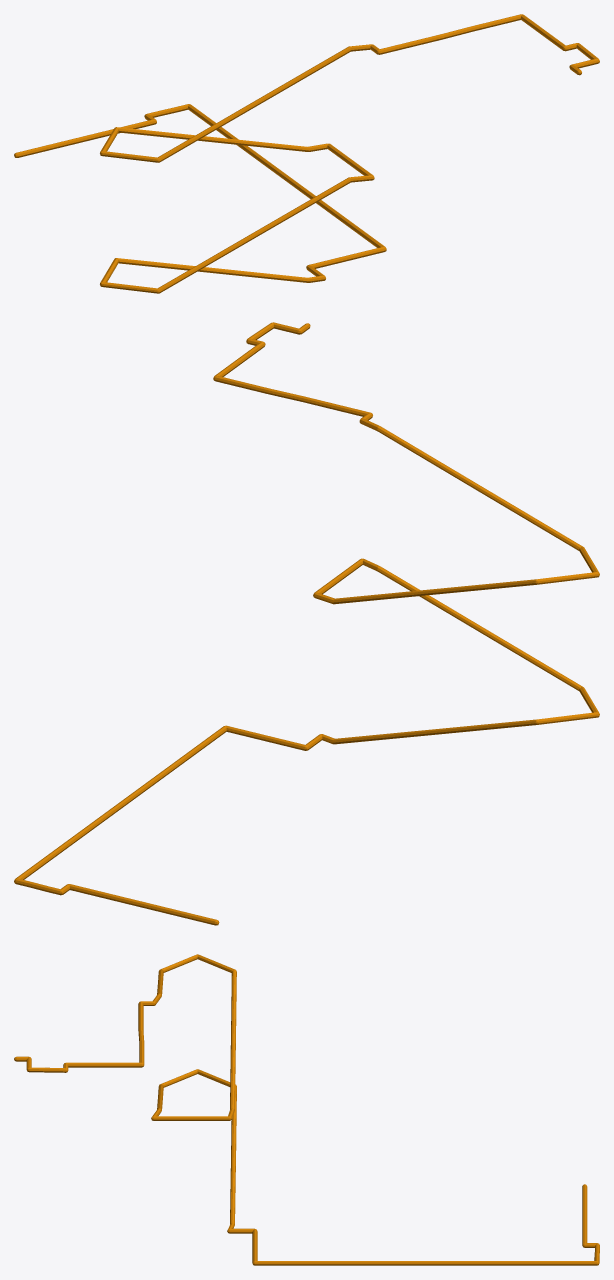
3 renders of one model, top to bottom at view 1: azimuth 30°, elevation 25°; view 2: azimuth 150°, elevation 25°; view 3: azimuth 270°, elevation 25°, orthographic. The views are drawn at different scales.
Size of the model in its own units: 1619 by 1020 by 2313.
